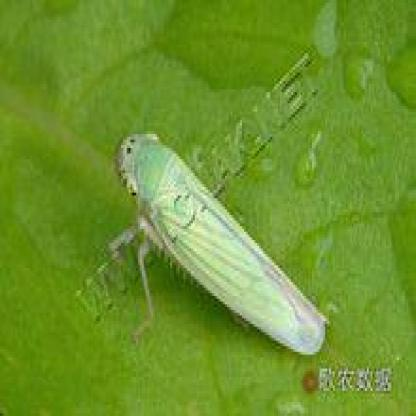Green-Leafhopper: (117, 128, 330, 366)
